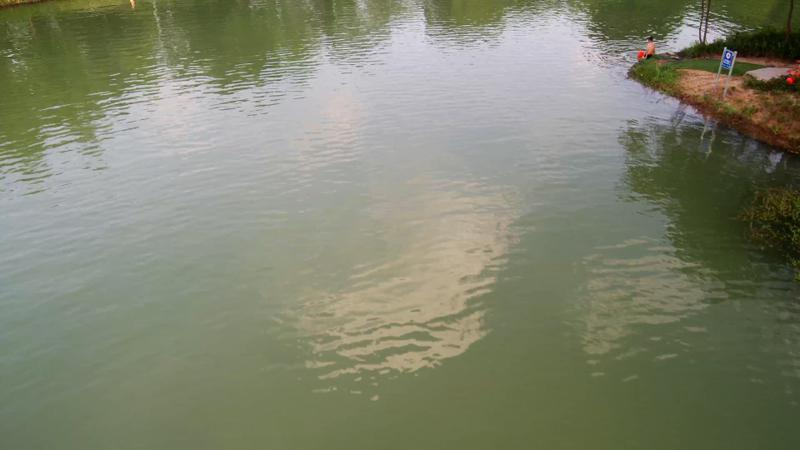sus_swimmers: (643, 36, 656, 59)
